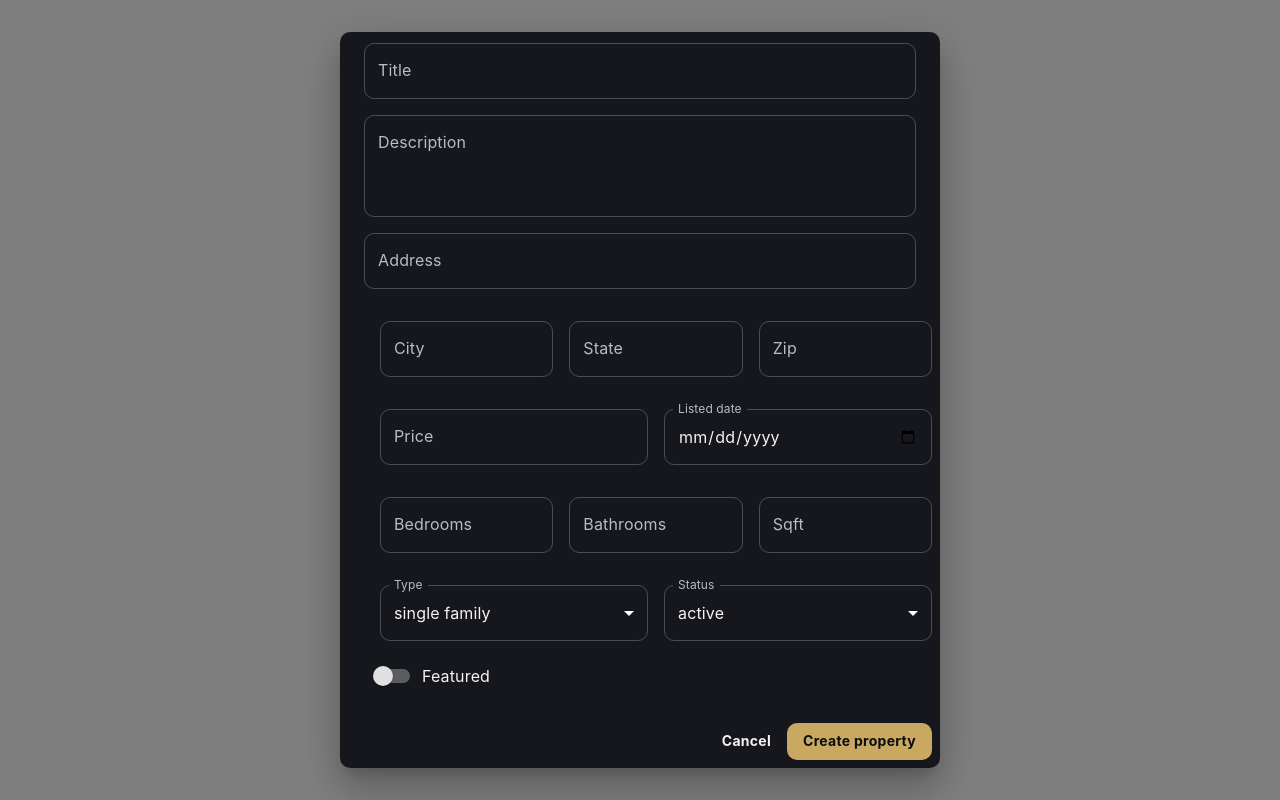
Test: PropertyFormDialog › shows a validation error when required fields are missing
The image size is (1280, 800).
(page scrolled)
Click the button "Create property": (860, 741) [787,723,932,760]
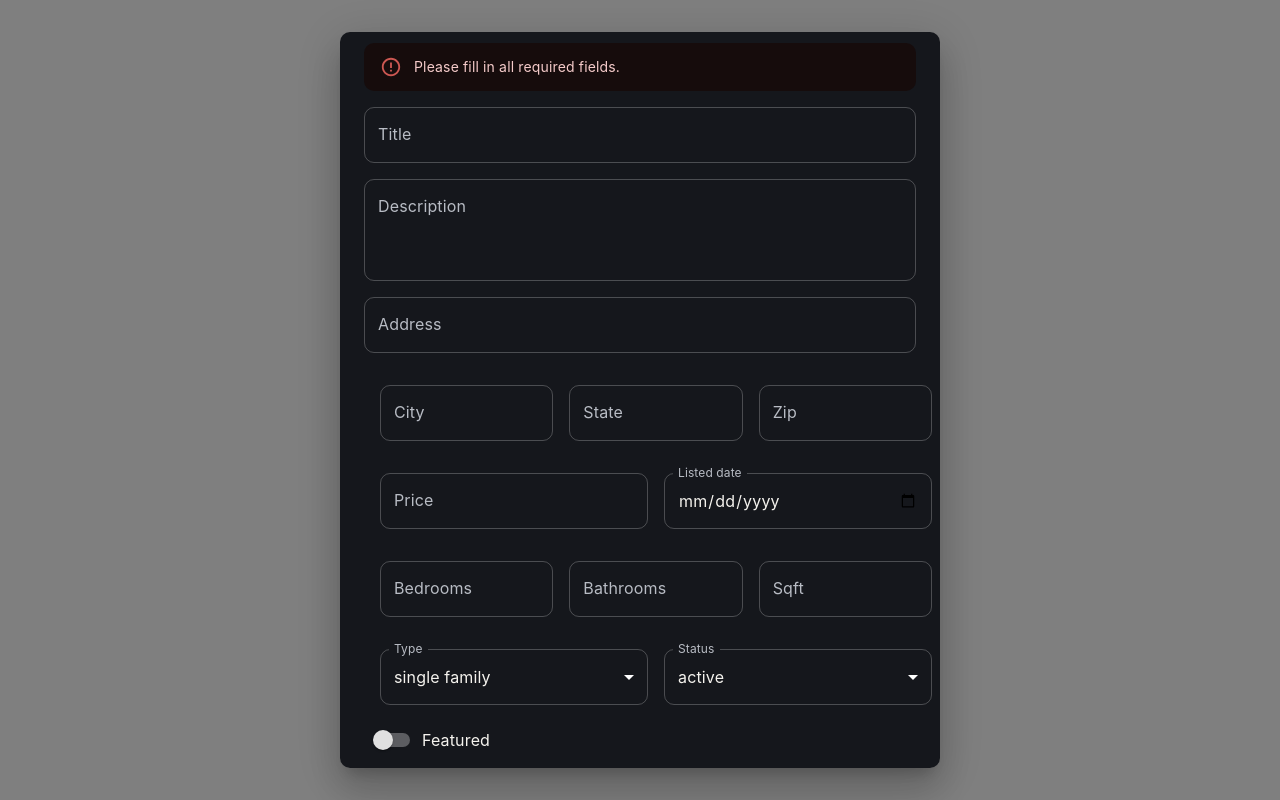
expect the message shows "required fields": met, box [414,58,620,75]
